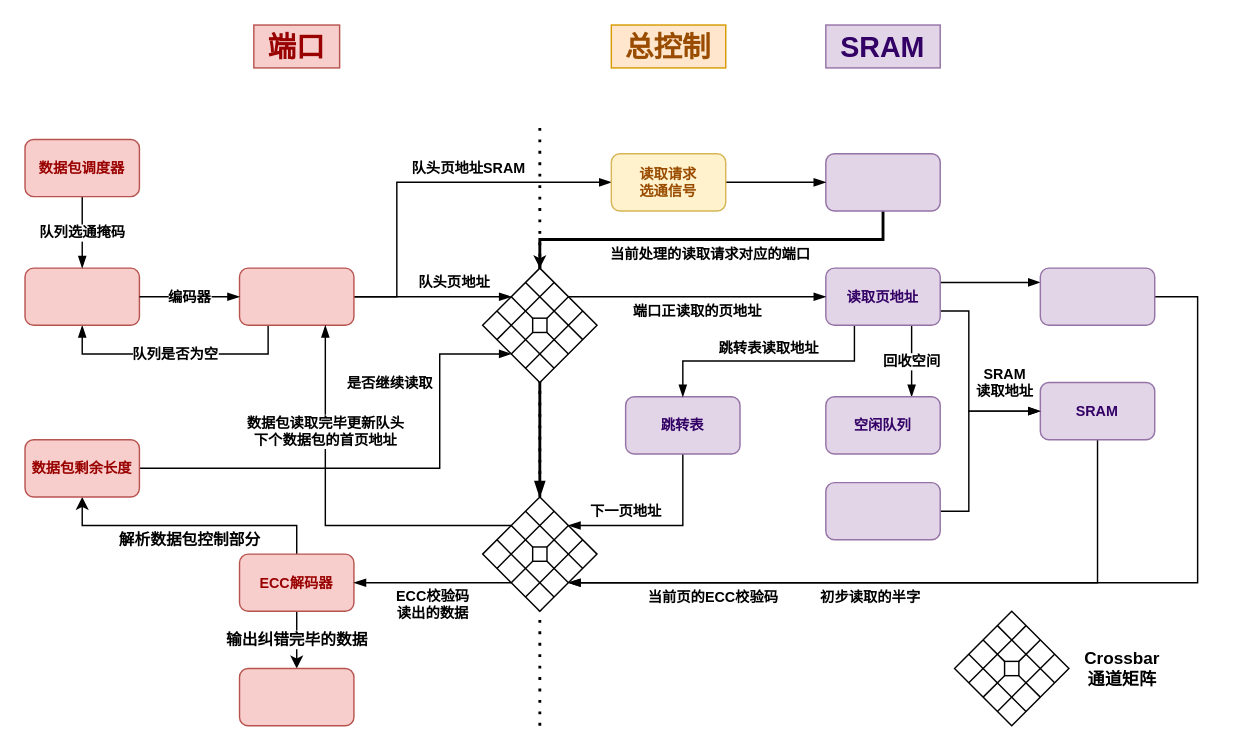
The diagram is 1234 pixels wide and 754 high, and some of its shapes have lost their labels. Here are the shapes that lost their labels. From the top down, the centre of each, then its label:
At point (882, 181): "读取冲突 仲裁器".
At point (81, 296): "队列状态".
At point (296, 296): "待读取队列".
At point (1097, 296): "ECC编码存储".
At point (882, 510): "读取切片计数器".
At point (296, 696): "读出前端".
